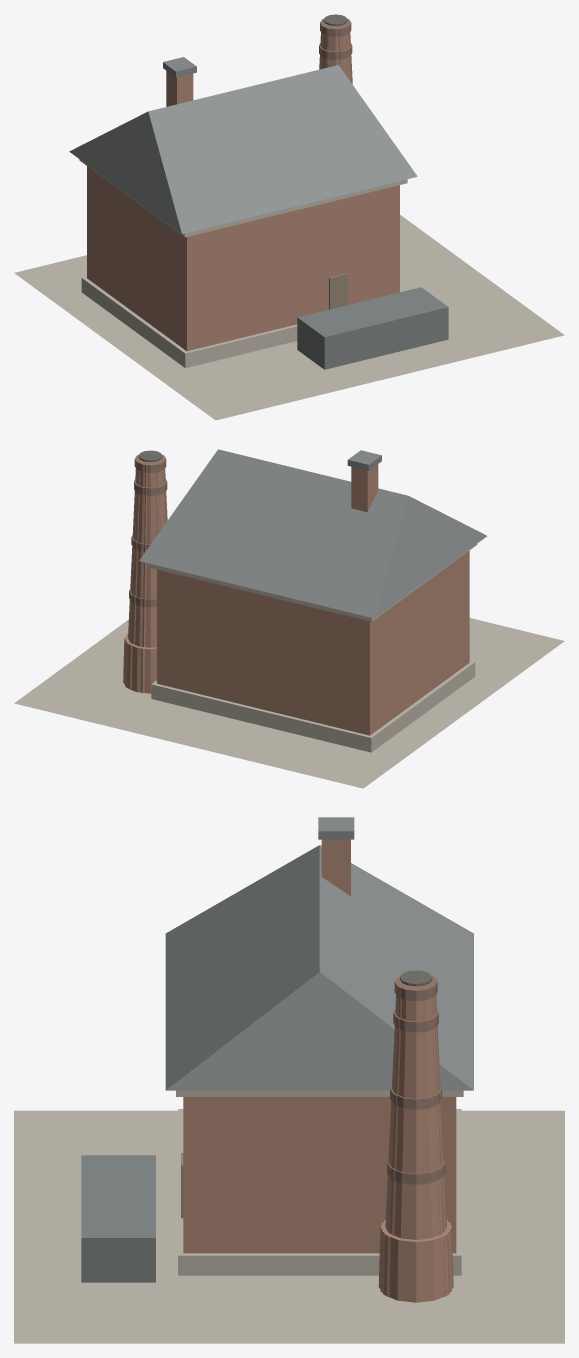
The picture shows the model from 3 angles, top to bottom: view 1: azimuth 30°, elevation 25°; view 2: azimuth 150°, elevation 25°; view 3: azimuth 270°, elevation 25°; orthographic projection. The views are drawn at different scales.
Visible parts, largest first — view 1: Near; view 2: Near, Mid, Far; view 3: Near, Mid, Far.
Part boxes in pixels (box(x1,y1,x2,y2)): Near: box(14, 14, 564, 420); Near: box(14, 449, 564, 788); Mid: box(125, 451, 167, 693); Far: box(130, 471, 157, 689); Near: box(14, 817, 564, 1343); Mid: box(381, 971, 451, 1297); Far: box(380, 996, 451, 1291).
Bounding box in the file's own units: 2 × 1.37 × 2.
